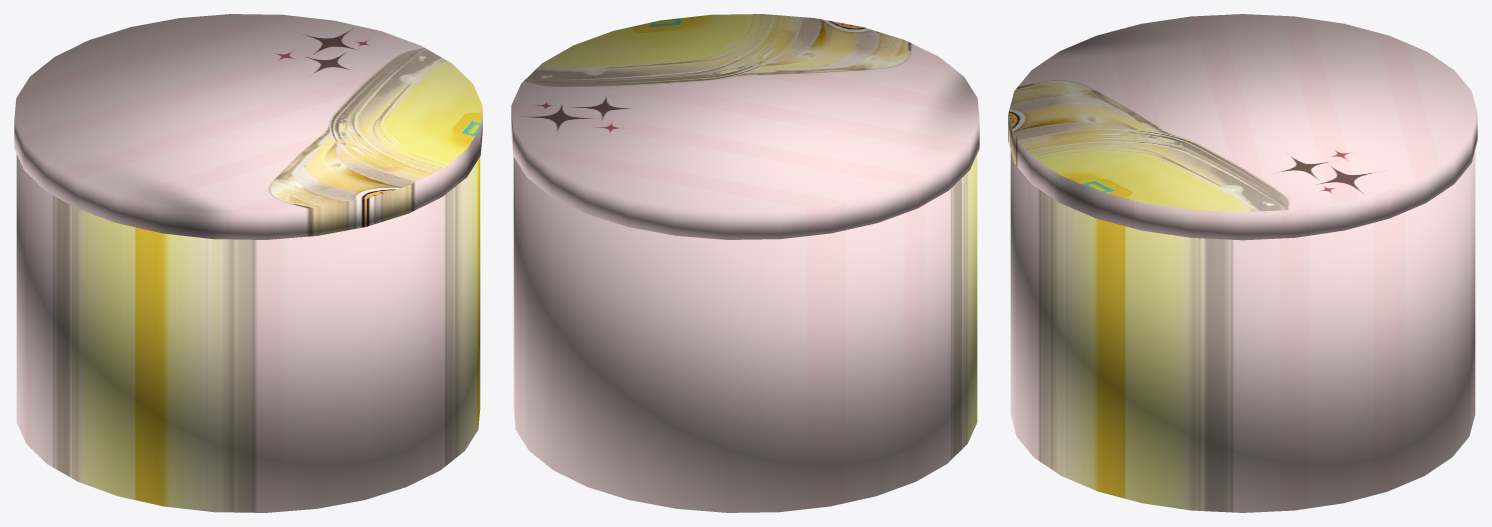
Rendered from prop_lemon_blueberry_cake.glb.
3 renders of one model, left to right at view 1: azimuth 30°, elevation 25°; view 2: azimuth 150°, elevation 25°; view 3: azimuth 270°, elevation 25°, orthographic.
Visible parts, largest first — view 1: prop_lemon_blueberry_cake; view 2: prop_lemon_blueberry_cake; view 3: prop_lemon_blueberry_cake.
Boxes of the visible parts, x1,y1,x2,y2 form: prop_lemon_blueberry_cake: [14, 14, 482, 512]; prop_lemon_blueberry_cake: [511, 14, 979, 512]; prop_lemon_blueberry_cake: [1008, 14, 1477, 512].
Size of the model in its own units: 0.1212 by 0.086 by 0.1212.
1 material, 1 textured.
